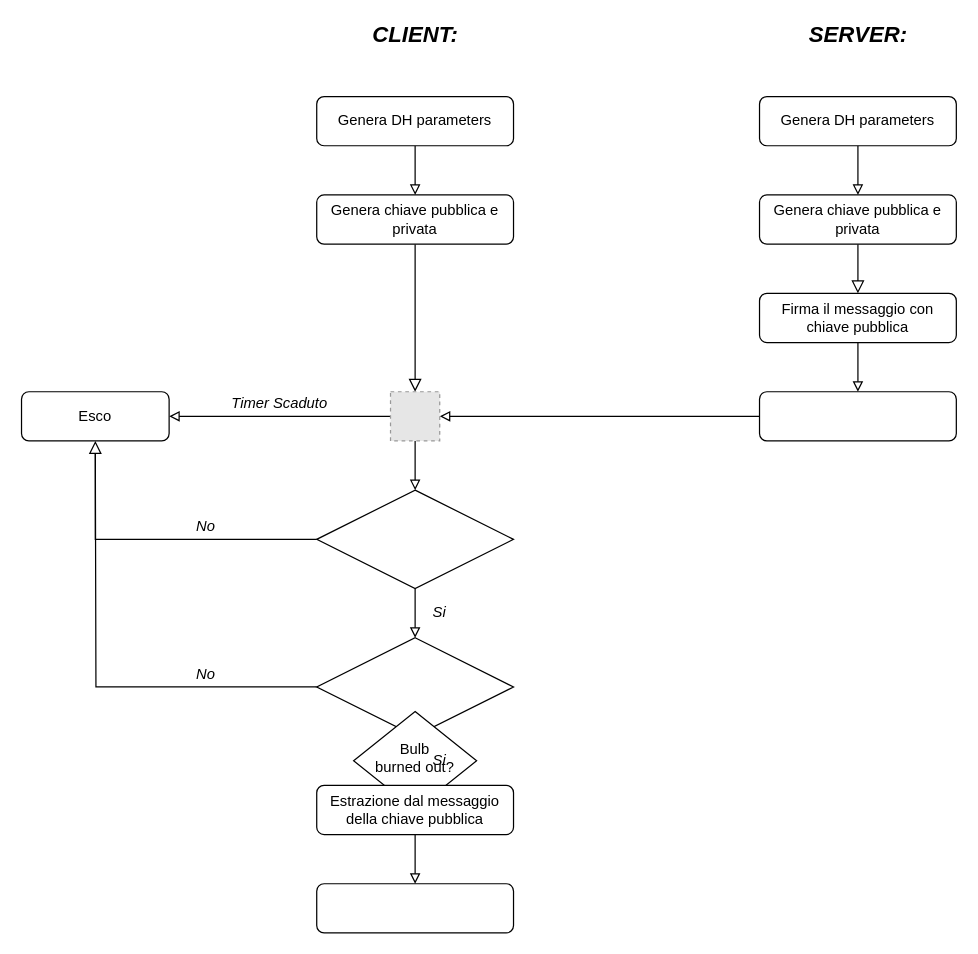
The diagram is 978 pixels wide and 954 high, and some of its shapes have lost their labels. Grey dashed boxes stand in for pictures. Each missing label, with the centre of its shape:
Calcolo del segreto condiviso: (x=414, y=908)
Firma del messaggio corretta?: (x=414, y=686)
Invia il messaggio firmato: (x=857, y=416)
Struttura del messaggio corretta?: (x=414, y=539)
